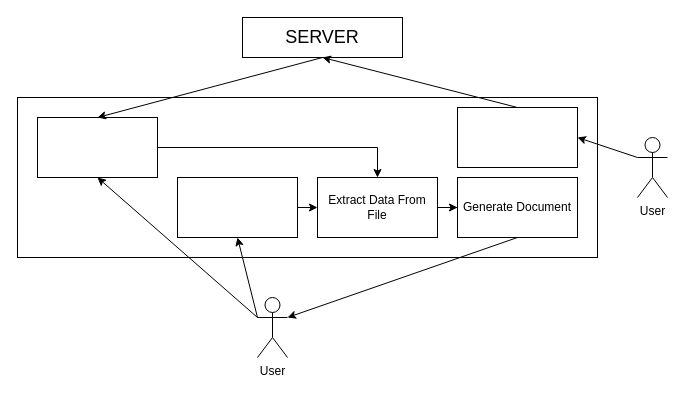
Some shapes in this 685 by 396 pixel diagram are drawn without their labels. The shapes that lost their labels are listed below. From the top down, each one's centre as x and y in pixels, then its label:
pixel 97 147: Select a Template
pixel 517 137: Upload a Template
pixel 237 207: Select Data File
